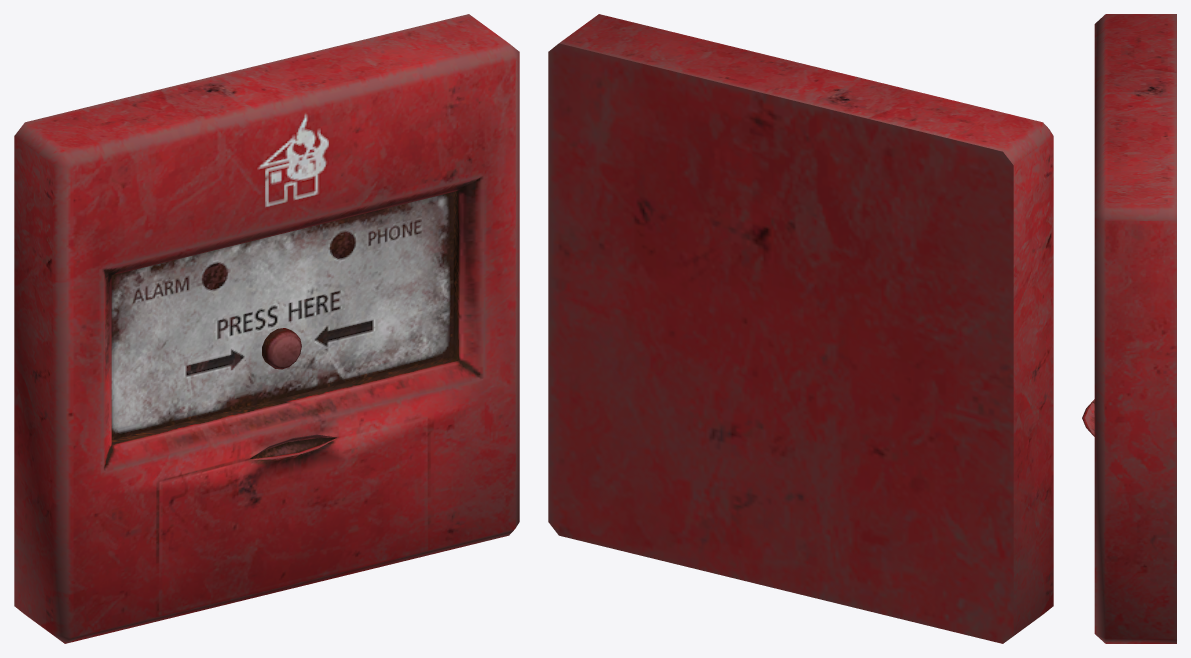
File: alarmBellButton01.FBX
The picture shows the model from 3 angles, left to right: view 1: azimuth 30°, elevation 25°; view 2: azimuth 150°, elevation 25°; view 3: azimuth 270°, elevation 25°; orthographic projection. The views are drawn at different scales.
Parts seen in each view (by area): view 1: SM_AlarmBellButton01; view 2: SM_AlarmBellButton01; view 3: SM_AlarmBellButton01.
Part boxes in pixels (box(x1,y1,x2,y2)): SM_AlarmBellButton01: box(14, 14, 519, 643); SM_AlarmBellButton01: box(548, 14, 1053, 643); SM_AlarmBellButton01: box(1082, 14, 1176, 643).
Bounding box in the file's own units: 16.96 × 17.14 × 3.37.
Materials: 1 (1 with a texture image).
